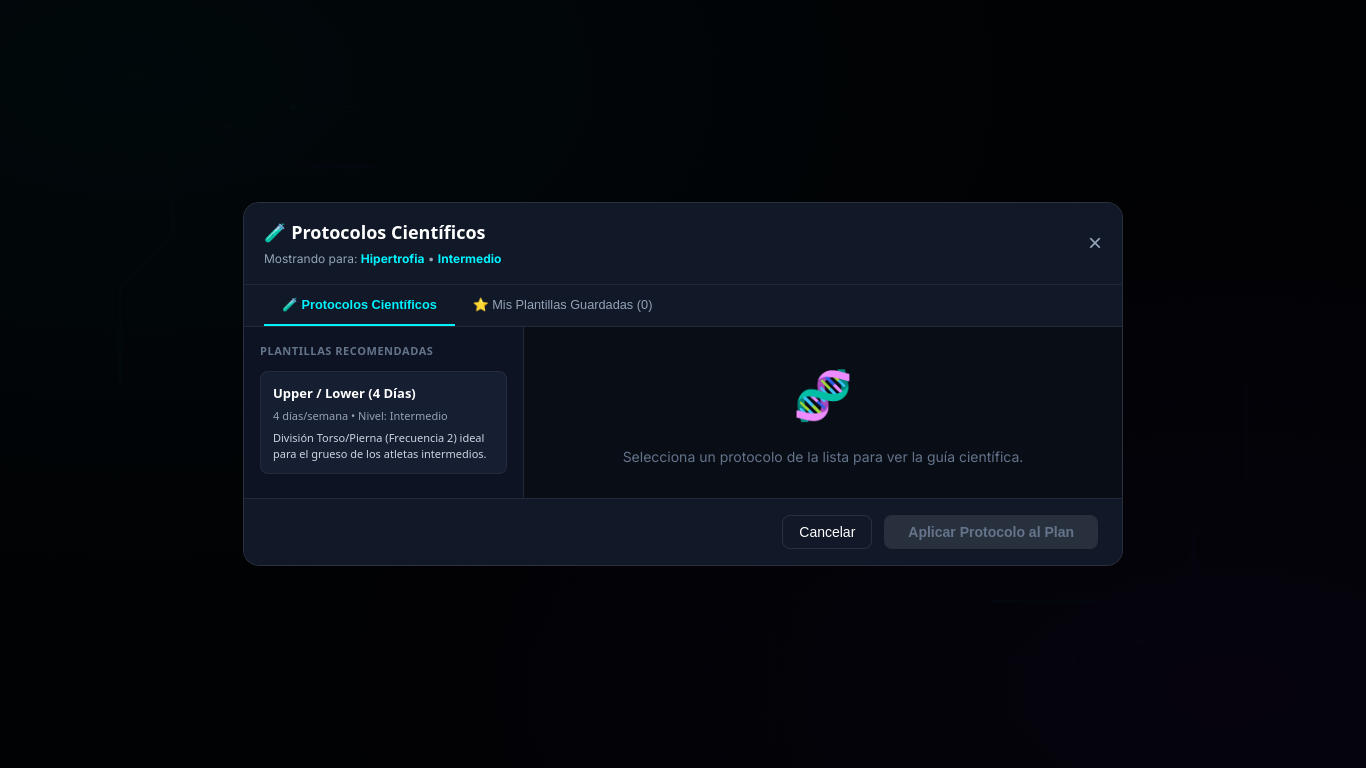
Test: ProtocolSelectorModal Component › permite seleccionar un protocolo y ver su guía científica
Click the button that starts with "Upper / Lower (4 Días)": point(384, 423) [260,371,507,474]
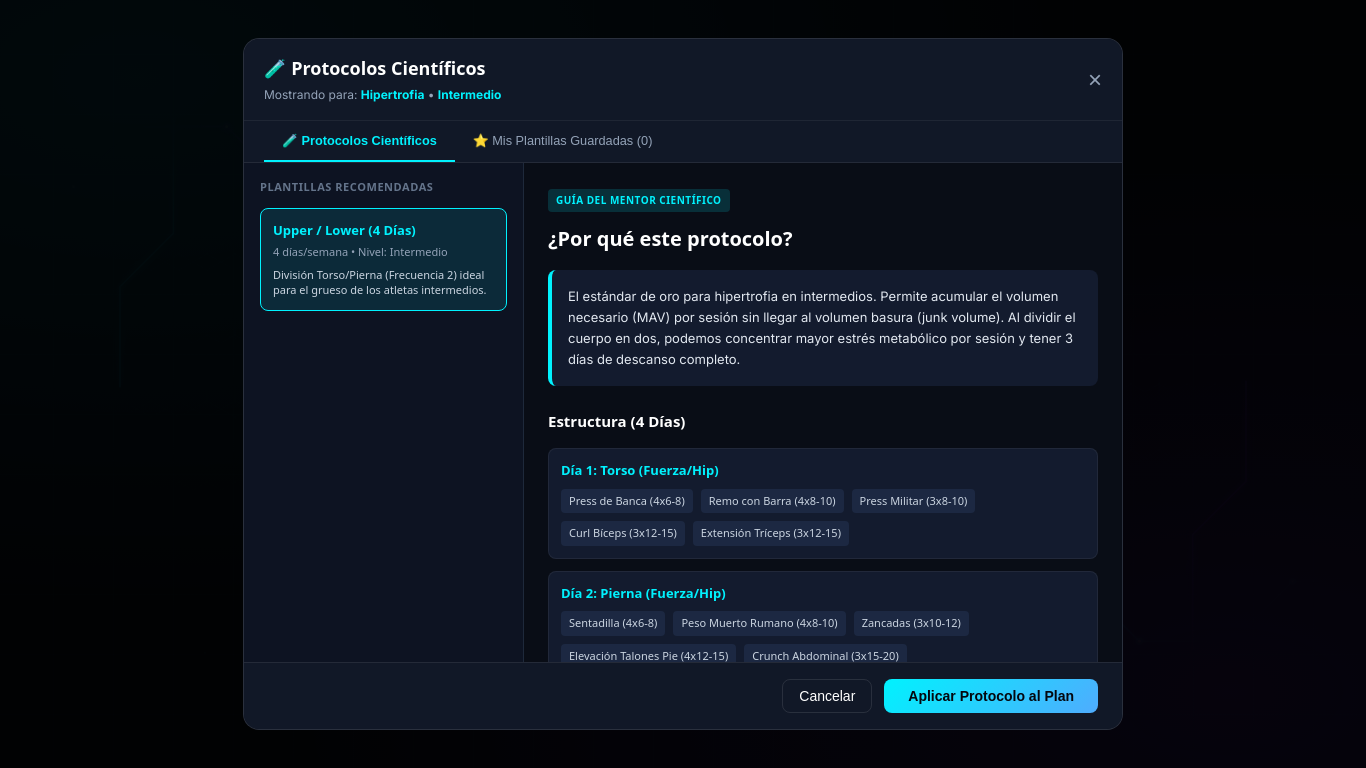
Expected: the heading "¿Por qué este protocolo?" is shown, [548,225,792,252]
